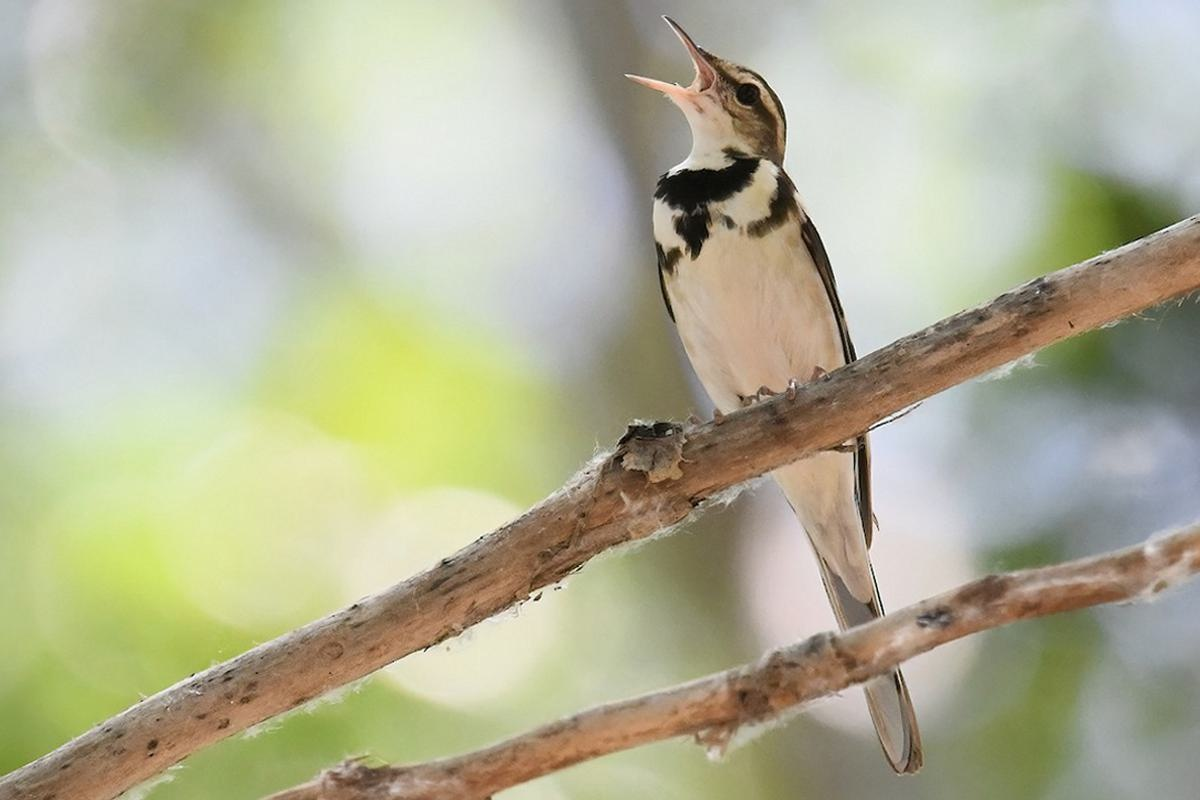wagtail: (617, 11, 938, 706)
